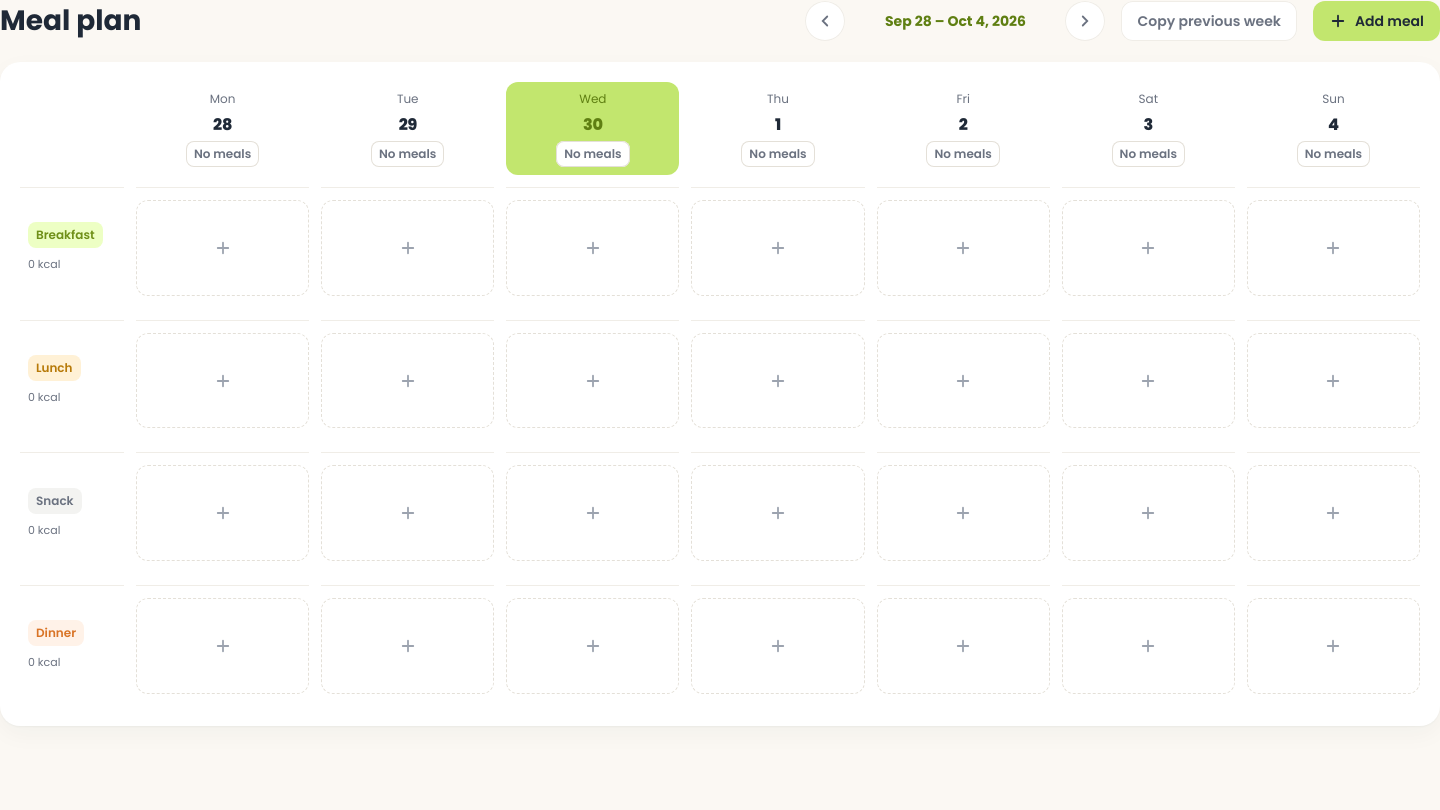
it: PlanPage › keeps the dialog and shows an error when an action fails
This screenshot has width=1440, height=810.
Click the button named "Add lunch on Tue". click: (408, 381)
box: x1=321 y1=333 x2=494 y2=428
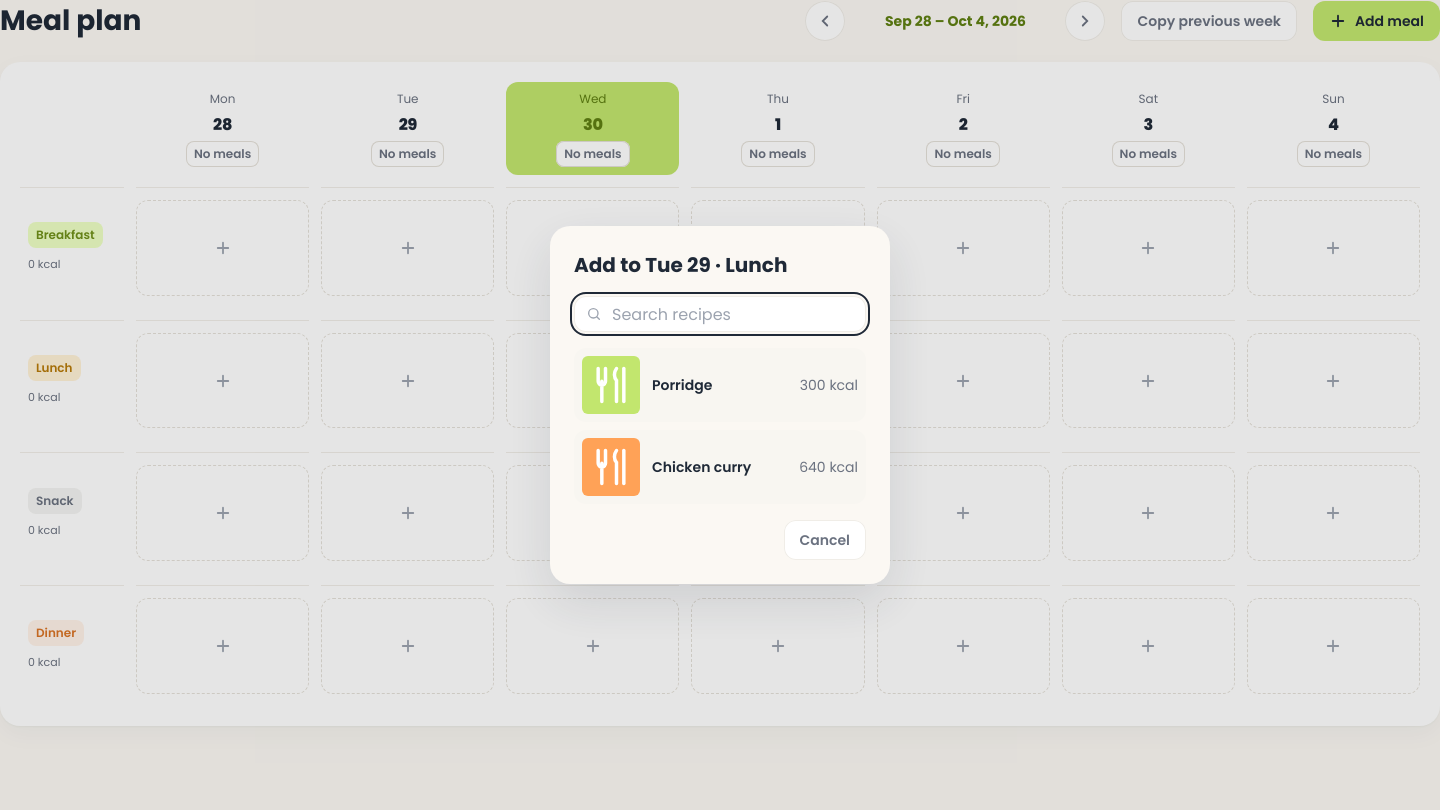
Click the button "Chicken curry 640 kcal". click: (720, 467)
box: x1=574 y1=430 x2=866 y2=504
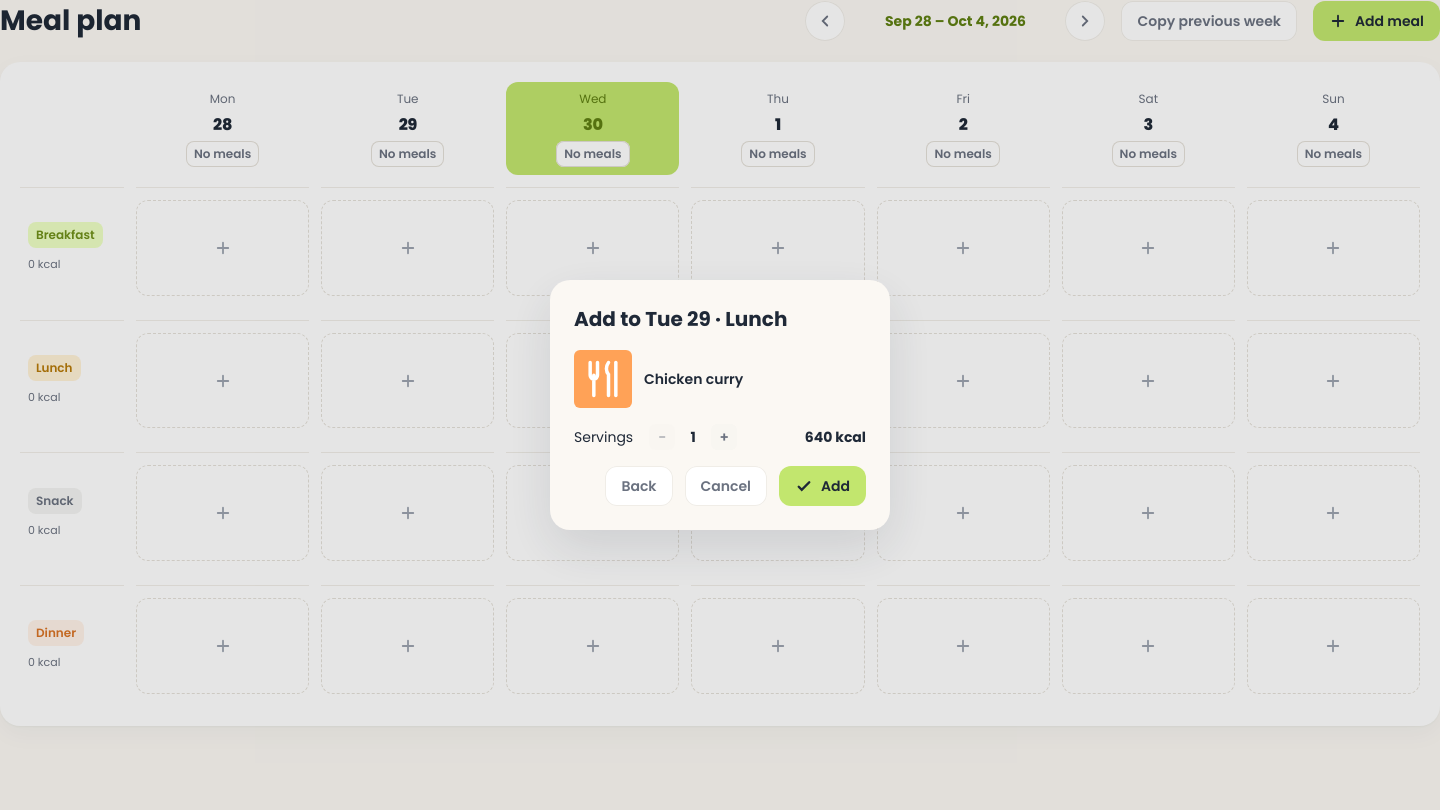
Click the button "Add". click: (822, 486)
box: x1=779 y1=466 x2=866 y2=506
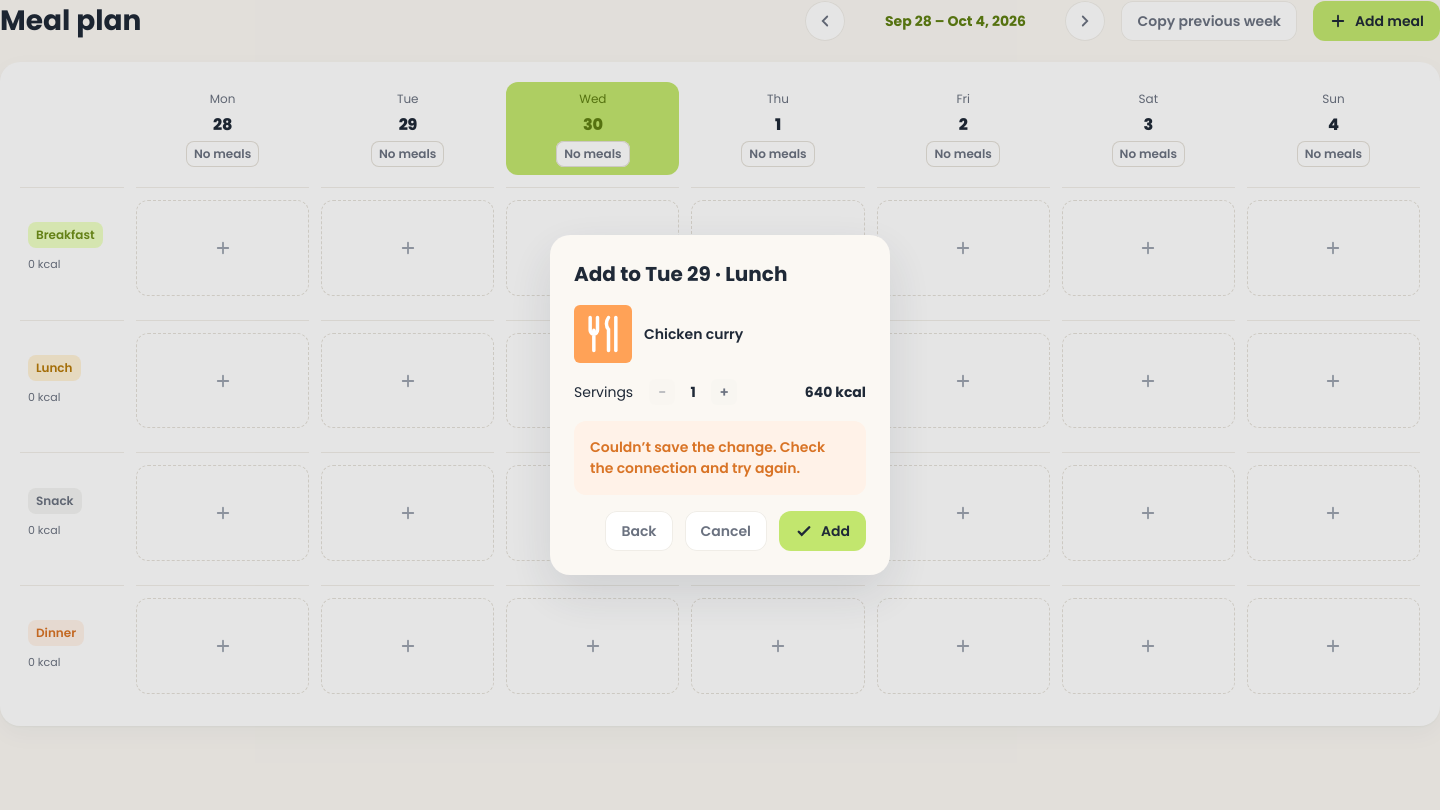
Result: the message shows "Couldn’t" at x1=590 y1=437 x2=825 y2=478
